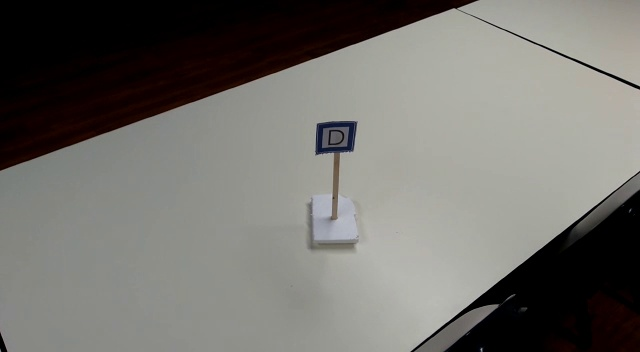durak: (316, 120, 356, 154)
